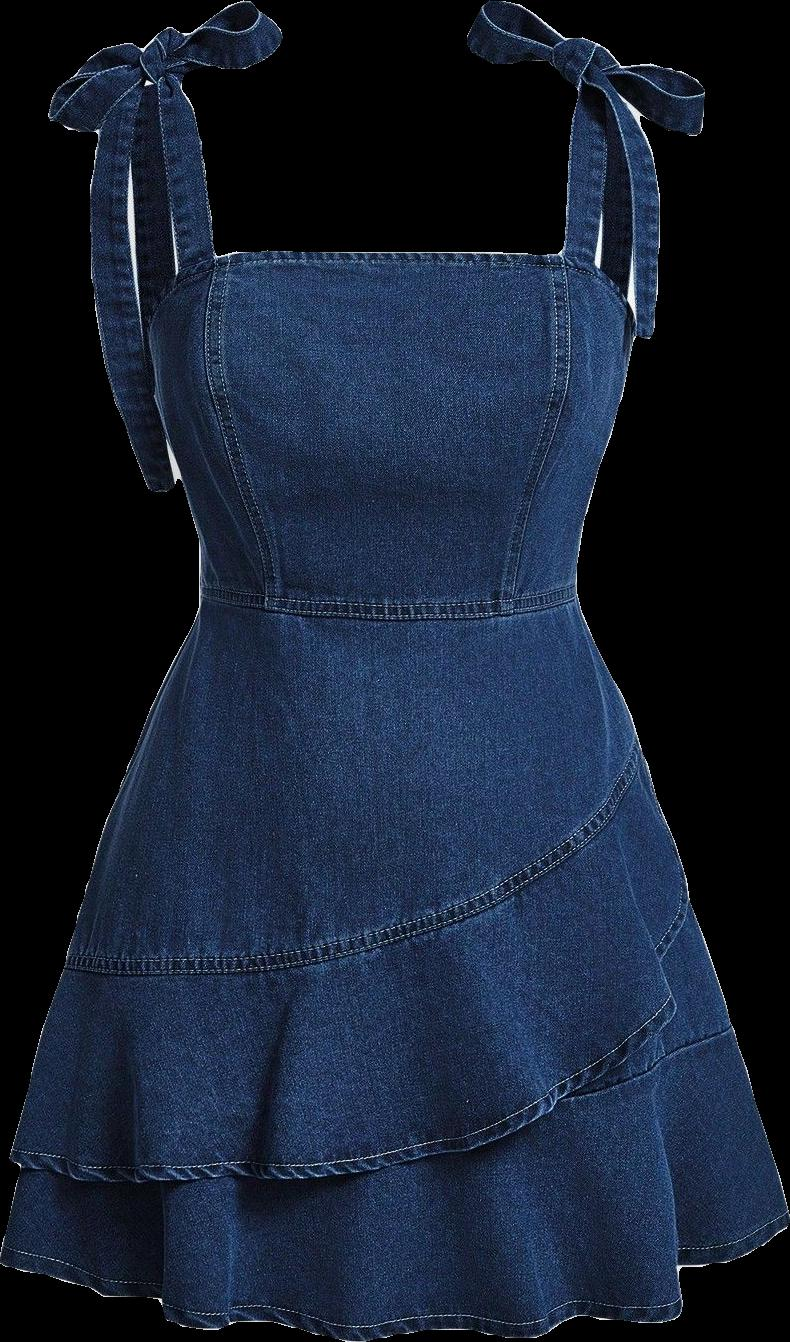Bodice: (132, 39, 640, 623)
Hemline: (10, 896, 700, 1193), (0, 1212, 789, 1341)
Neckline: (166, 38, 593, 275)
Skirt: (0, 600, 789, 1339)
Waistline: (63, 739, 651, 975), (193, 591, 584, 633)
